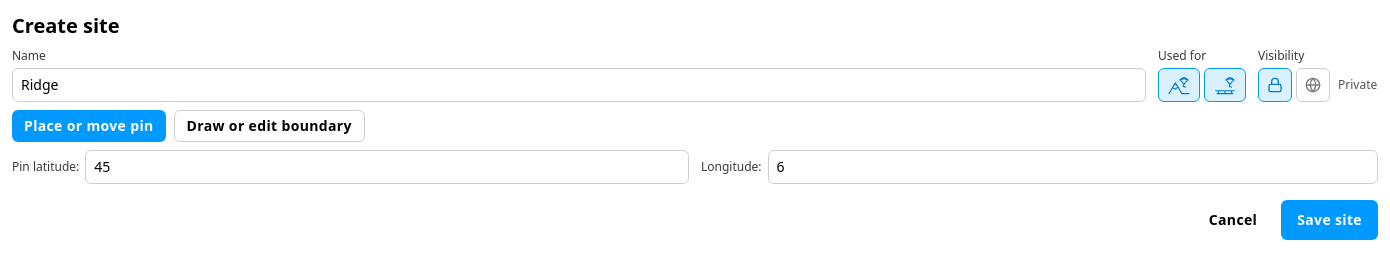
Test: clears a coordinate error when the pin is corrected
Clear the number field labelled "Pin latitude" at (387,167), box [85, 150, 689, 184]
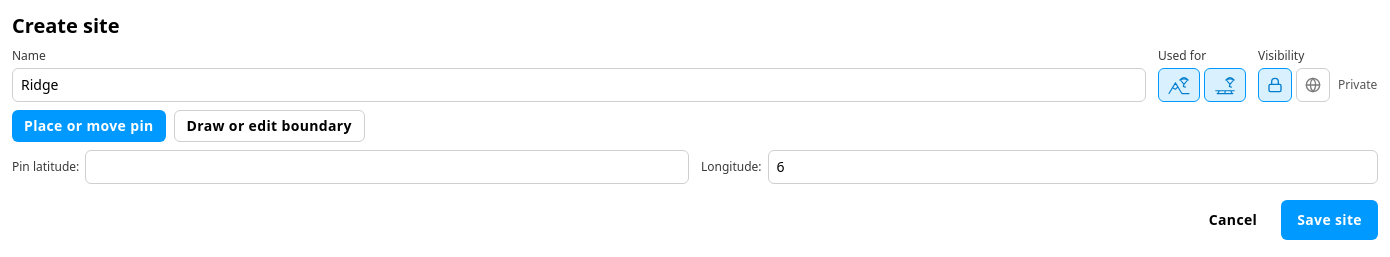
Click the button "Save site".
click(1330, 220)  # box [1281, 200, 1378, 240]
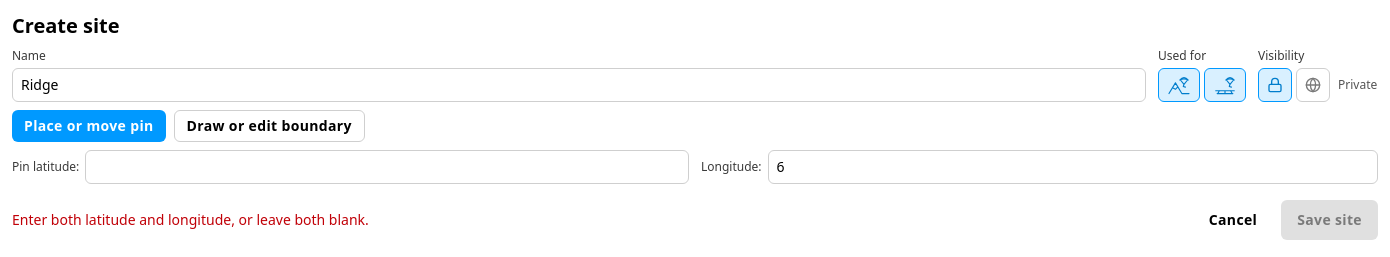
Expected: the message shows "Enter both latitude and longitude", [12, 210, 369, 229]
Expected: the button "Save site" is disabled, [1281, 200, 1378, 240]
Type "45" into the number field labelled "Pin latitude".
click(387, 167); type("45")  # box [85, 150, 689, 184]
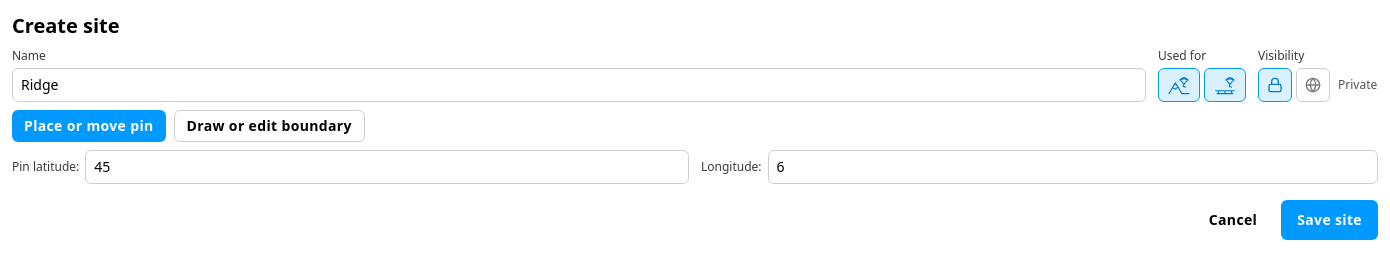
Expected: the message "Enter both latitude and longitude, or leave both blank." is gone
Expected: the button "Save site" is enabled, [1281, 200, 1378, 240]
